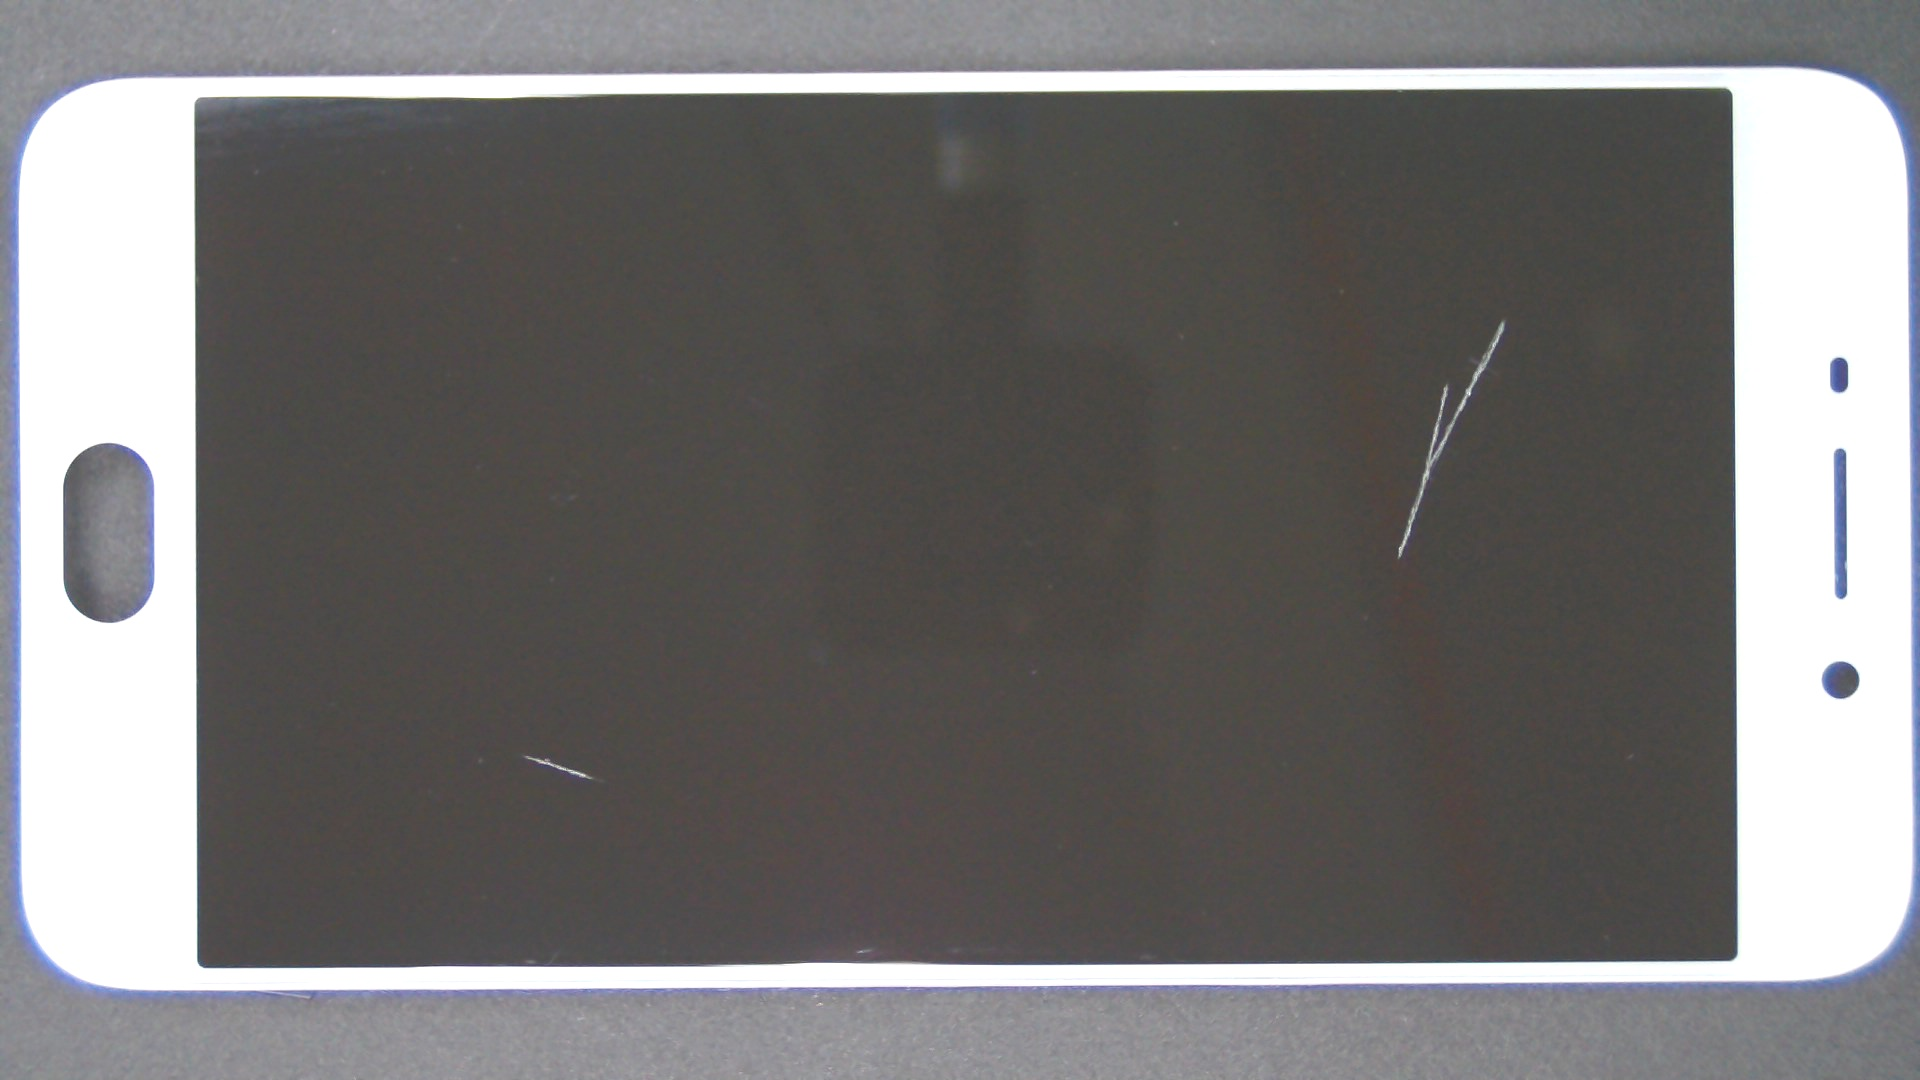oil: (753, 160, 1920, 479), (262, 377, 786, 1080)
